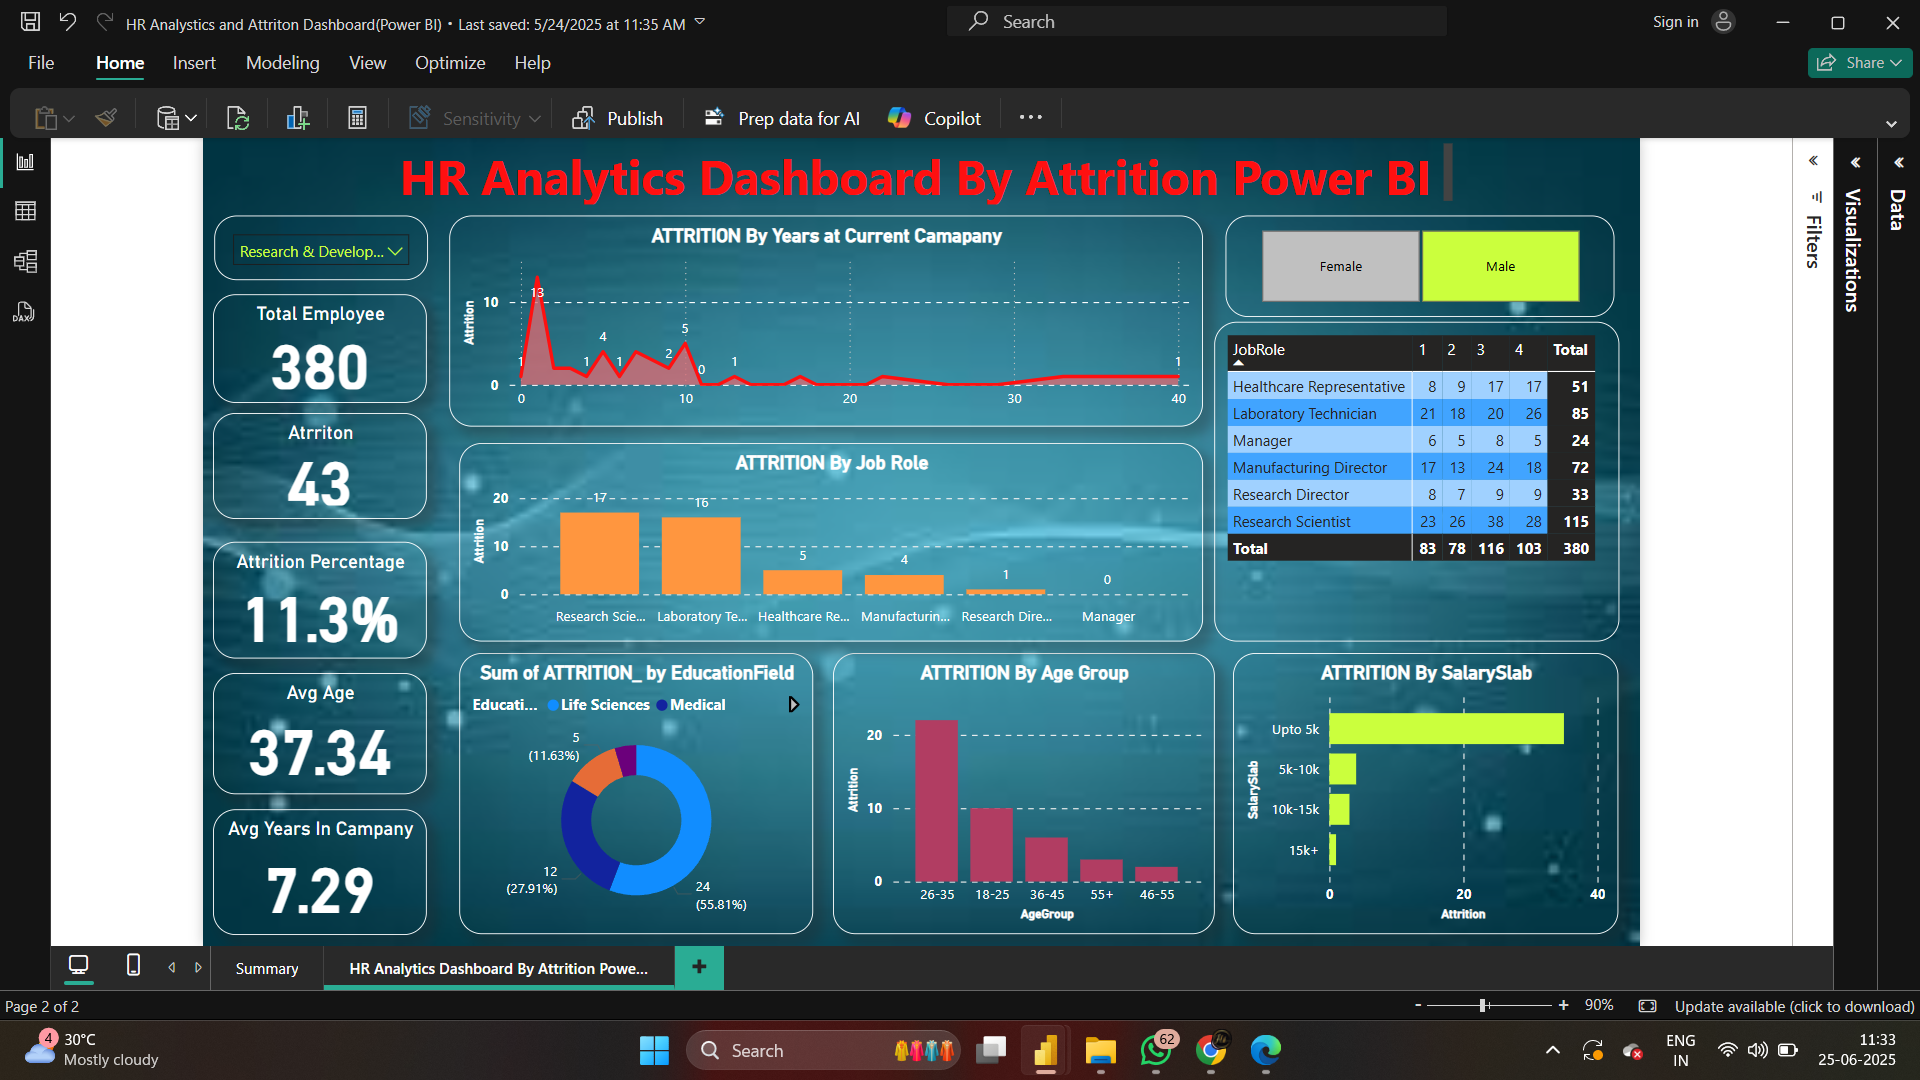

The page's visual inventory and layout, read from the dashboard file:
{"tool":"powerbi","page":{"name":"DashBoard","canvas":[1280,720],"ordinal":0},"visuals":[{"type":"card","title":"Total Employee","fields":{"Values":["Sum(HR_Analytics.EmployeeCount)"]},"box":[8.6,138.7,190.2,96.9],"z":0},{"type":"card","title":"Attrition Percentage","fields":{"Values":["HR_Analytics.Attrition Percentage %"]},"box":[8.6,359.5,190.2,104.3],"z":1000},{"type":"card","title":"Atrriton","fields":{"Values":["Sum(HR_Analytics.ATTRITION_)"]},"box":[8.6,245.4,190.2,94.5],"z":2000},{"type":"card","title":"Avg Age","fields":{"Values":["Avg(HR_Analytics.Age)"]},"box":[8.6,476.1,190.2,108],"z":3000},{"type":"card","title":"Avg Years In  Campany","fields":{"Values":["Avg(HR_Analytics.YearsAtCompany)"]},"box":[8.6,597.5,190.2,111.7],"z":4000},{"type":"donutChart","fields":{"Y":["Sum(HR_Analytics.ATTRITION_)"],"Category":["HR_Analytics.EducationField"]},"box":[228.2,458.9,315.3,250.3],"z":5000},{"type":"columnChart","title":" ATTRITION By Age Group","fields":{"Y":["Sum(HR_Analytics.ATTRITION_)"],"Category":["HR_Analytics.AgeGroup"]},"box":[560.7,458.9,339.9,250.3],"z":6000},{"type":"barChart","title":"ATTRITION By SalarySlab","fields":{"Category":["HR_Analytics.SalarySlab"],"Y":["Sum(HR_Analytics.ATTRITION_)"]},"box":[917.8,458.9,343.6,250.3],"z":7000},{"type":"columnChart","title":" ATTRITION By Job Role","fields":{"Y":["Sum(HR_Analytics.ATTRITION_)"],"Category":["HR_Analytics.JobRole"]},"box":[228.2,271.2,662.6,176.7],"z":8000},{"type":"areaChart","title":" ATTRITION By Years at Current Camapany","fields":{"Y":["Sum(HR_Analytics.ATTRITION_)"],"Category":["HR_Analytics.YearsAtCompany"]},"box":[219.6,68.7,671.2,187.7],"z":9000},{"type":"pivotTable","fields":{"Rows":["HR_Analytics.JobRole"],"Columns":["HR_Analytics.JobSatisfaction"],"Values":["Sum(HR_Analytics.EmployeeCount)"]},"box":[900.6,163.2,360.7,284.7],"z":10000},{"type":"slicer","fields":{"Values":["HR_Analytics.Department"]},"box":[9.8,68.7,190.2,57.7],"z":11000},{"type":"slicer","fields":{"Values":["HR_Analytics.Gender"]},"box":[910.4,68.7,346,90.8],"z":11001},{"type":"textbox","box":[159.5,0,958.3,63.8],"z":11002}]}

Visuals, with their boxes on the page's 1280x720 design canvas (x1, y1, x2, y2). These are canvas units, not pixel positions in the 1920x1080 screenshot, which may show the page scaled, cropped or inside an application window:
"Total Employee" card: (left=9, top=139, right=199, bottom=236)
"Attrition Percentage" card: (left=9, top=360, right=199, bottom=464)
"Atrriton" card: (left=9, top=245, right=199, bottom=340)
"Avg Age" card: (left=9, top=476, right=199, bottom=584)
"Avg Years In  Campany" card: (left=9, top=598, right=199, bottom=709)
donutChart - Sum(HR_Analytics.ATTRITION_) x HR_Analytics.EducationField: (left=228, top=459, right=544, bottom=709)
" ATTRITION By Age Group" columnChart: (left=561, top=459, right=901, bottom=709)
"ATTRITION By SalarySlab" barChart: (left=918, top=459, right=1261, bottom=709)
" ATTRITION By Job Role" columnChart: (left=228, top=271, right=891, bottom=448)
" ATTRITION By Years at Current Camapany" areaChart: (left=220, top=69, right=891, bottom=256)
pivotTable - HR_Analytics.JobRole x HR_Analytics.JobSatisfaction: (left=901, top=163, right=1261, bottom=448)
slicer - HR_Analytics.Department: (left=10, top=69, right=200, bottom=126)
slicer - HR_Analytics.Gender: (left=910, top=69, right=1256, bottom=160)
textbox: (left=160, top=0, right=1118, bottom=64)
